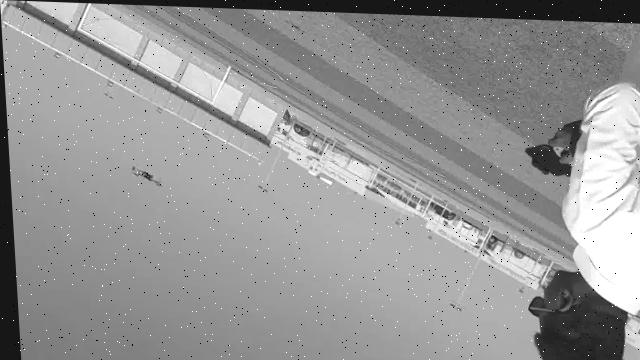drone: (126, 159, 160, 197)
